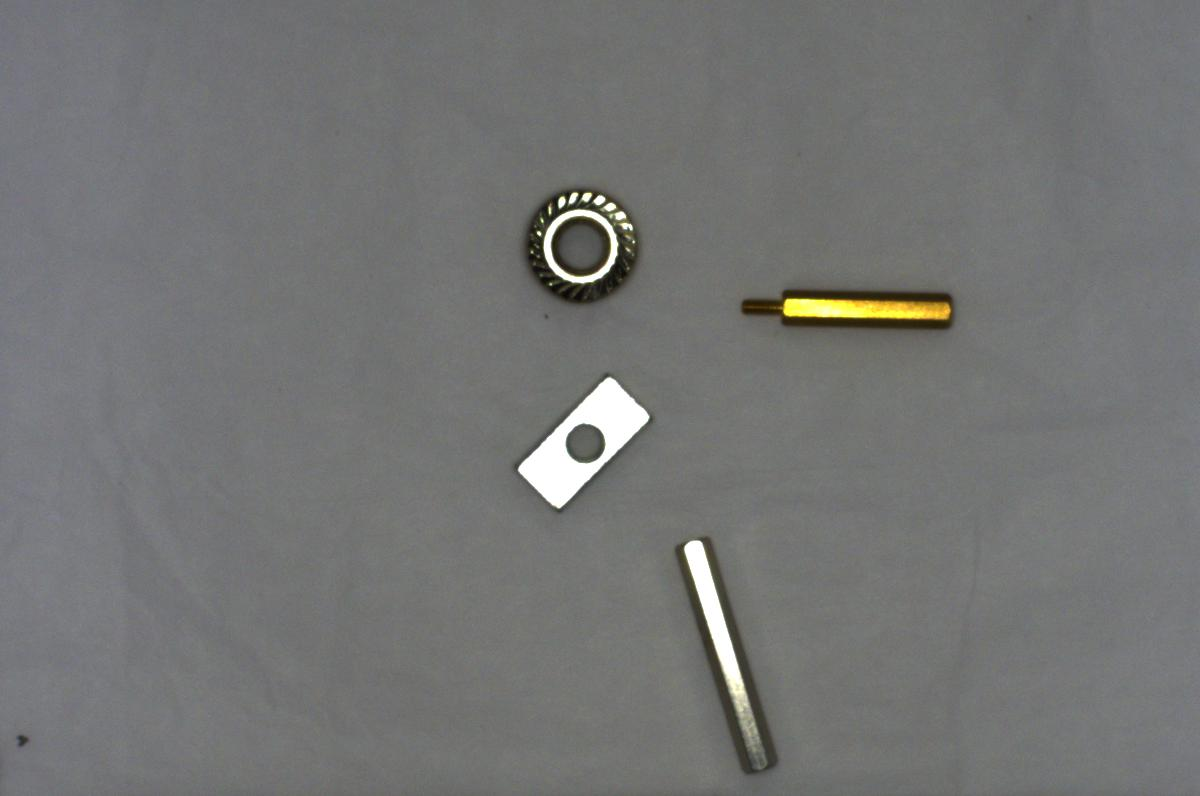Double hexagonal column: (664, 527, 795, 780)
Flange nut: (513, 174, 648, 306)
Hexagon pillar: (731, 275, 972, 345)
Rectangular nut: (493, 367, 659, 516)
